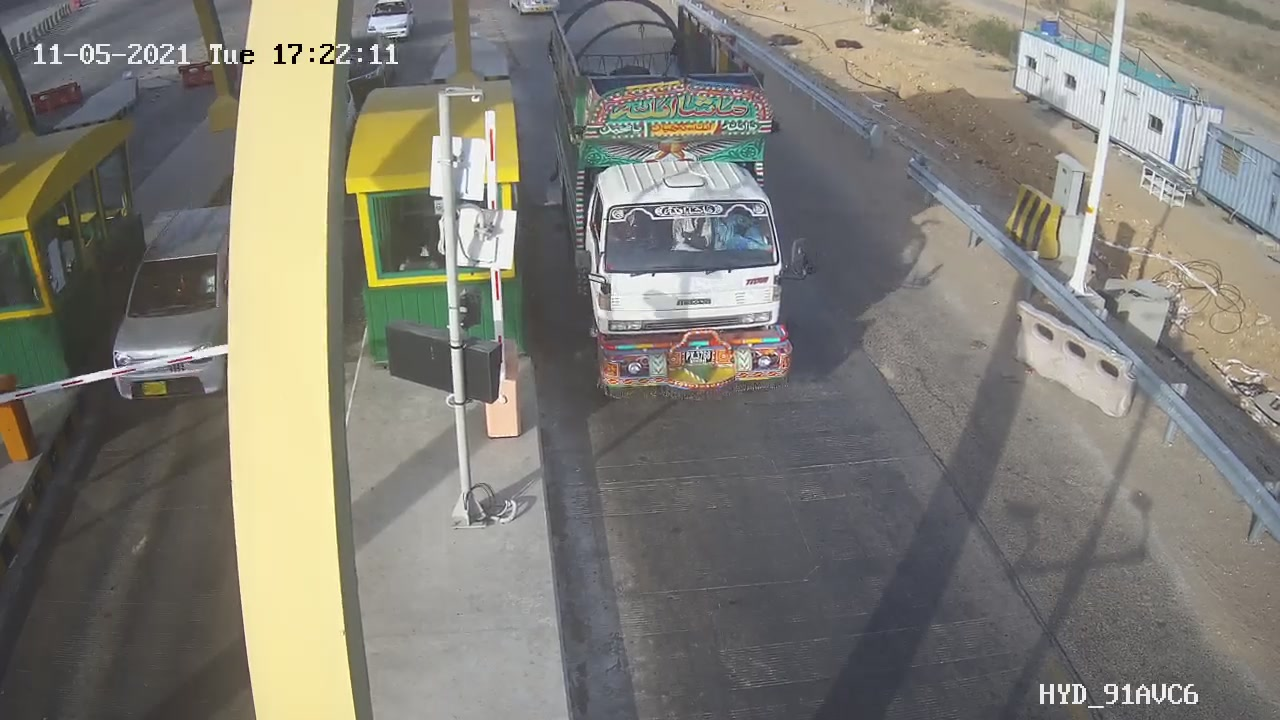F5: (529, 1, 837, 421)
